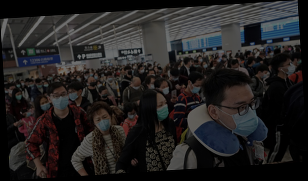with_mask: (219, 96, 259, 137), (51, 91, 69, 111), (93, 113, 112, 131), (156, 98, 170, 121), (284, 60, 297, 76), (190, 83, 203, 94), (40, 99, 51, 111), (160, 84, 171, 95), (69, 90, 79, 102), (127, 111, 137, 120), (89, 79, 97, 88), (261, 71, 269, 80), (149, 80, 156, 90), (16, 92, 23, 101), (101, 92, 110, 99), (132, 84, 141, 91), (36, 82, 44, 89), (126, 69, 134, 76), (173, 75, 180, 82), (139, 68, 146, 74), (43, 82, 49, 88), (97, 83, 103, 89), (203, 63, 209, 69), (199, 57, 205, 63), (26, 111, 32, 117), (109, 75, 114, 82), (30, 82, 35, 87), (21, 82, 26, 87), (16, 84, 21, 88)
